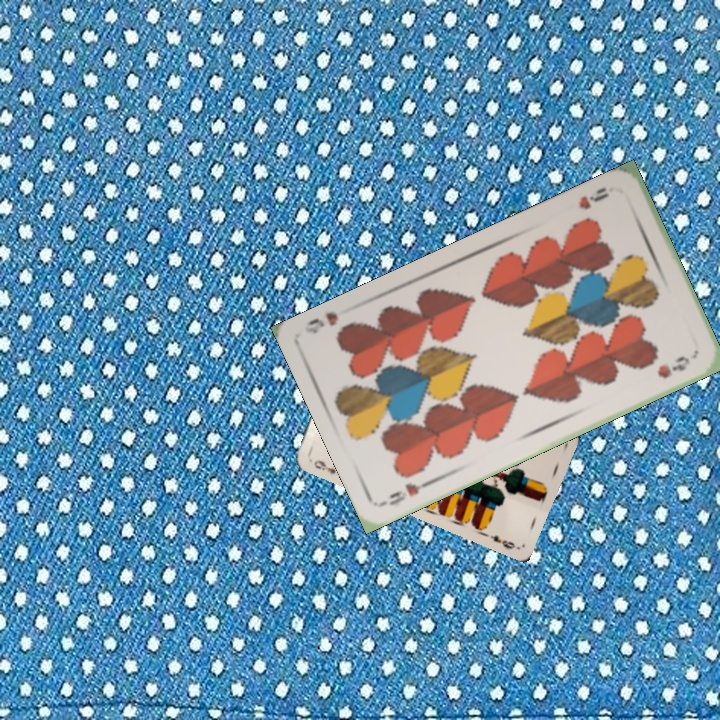E9: (310, 456, 344, 479)
H9: (378, 476, 435, 509), (574, 183, 612, 212)
